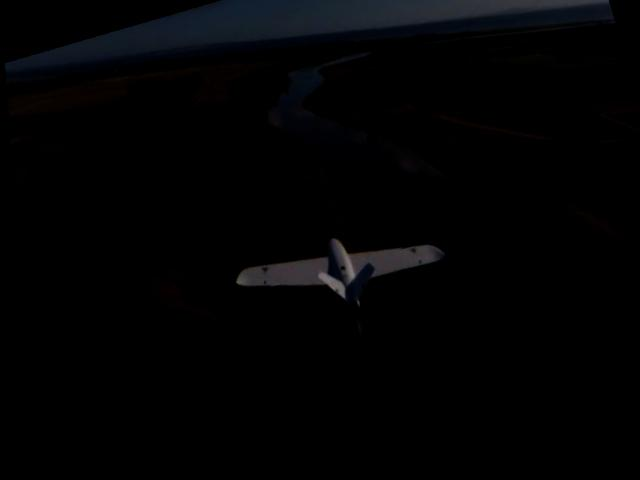iha: (221, 209, 456, 349)
